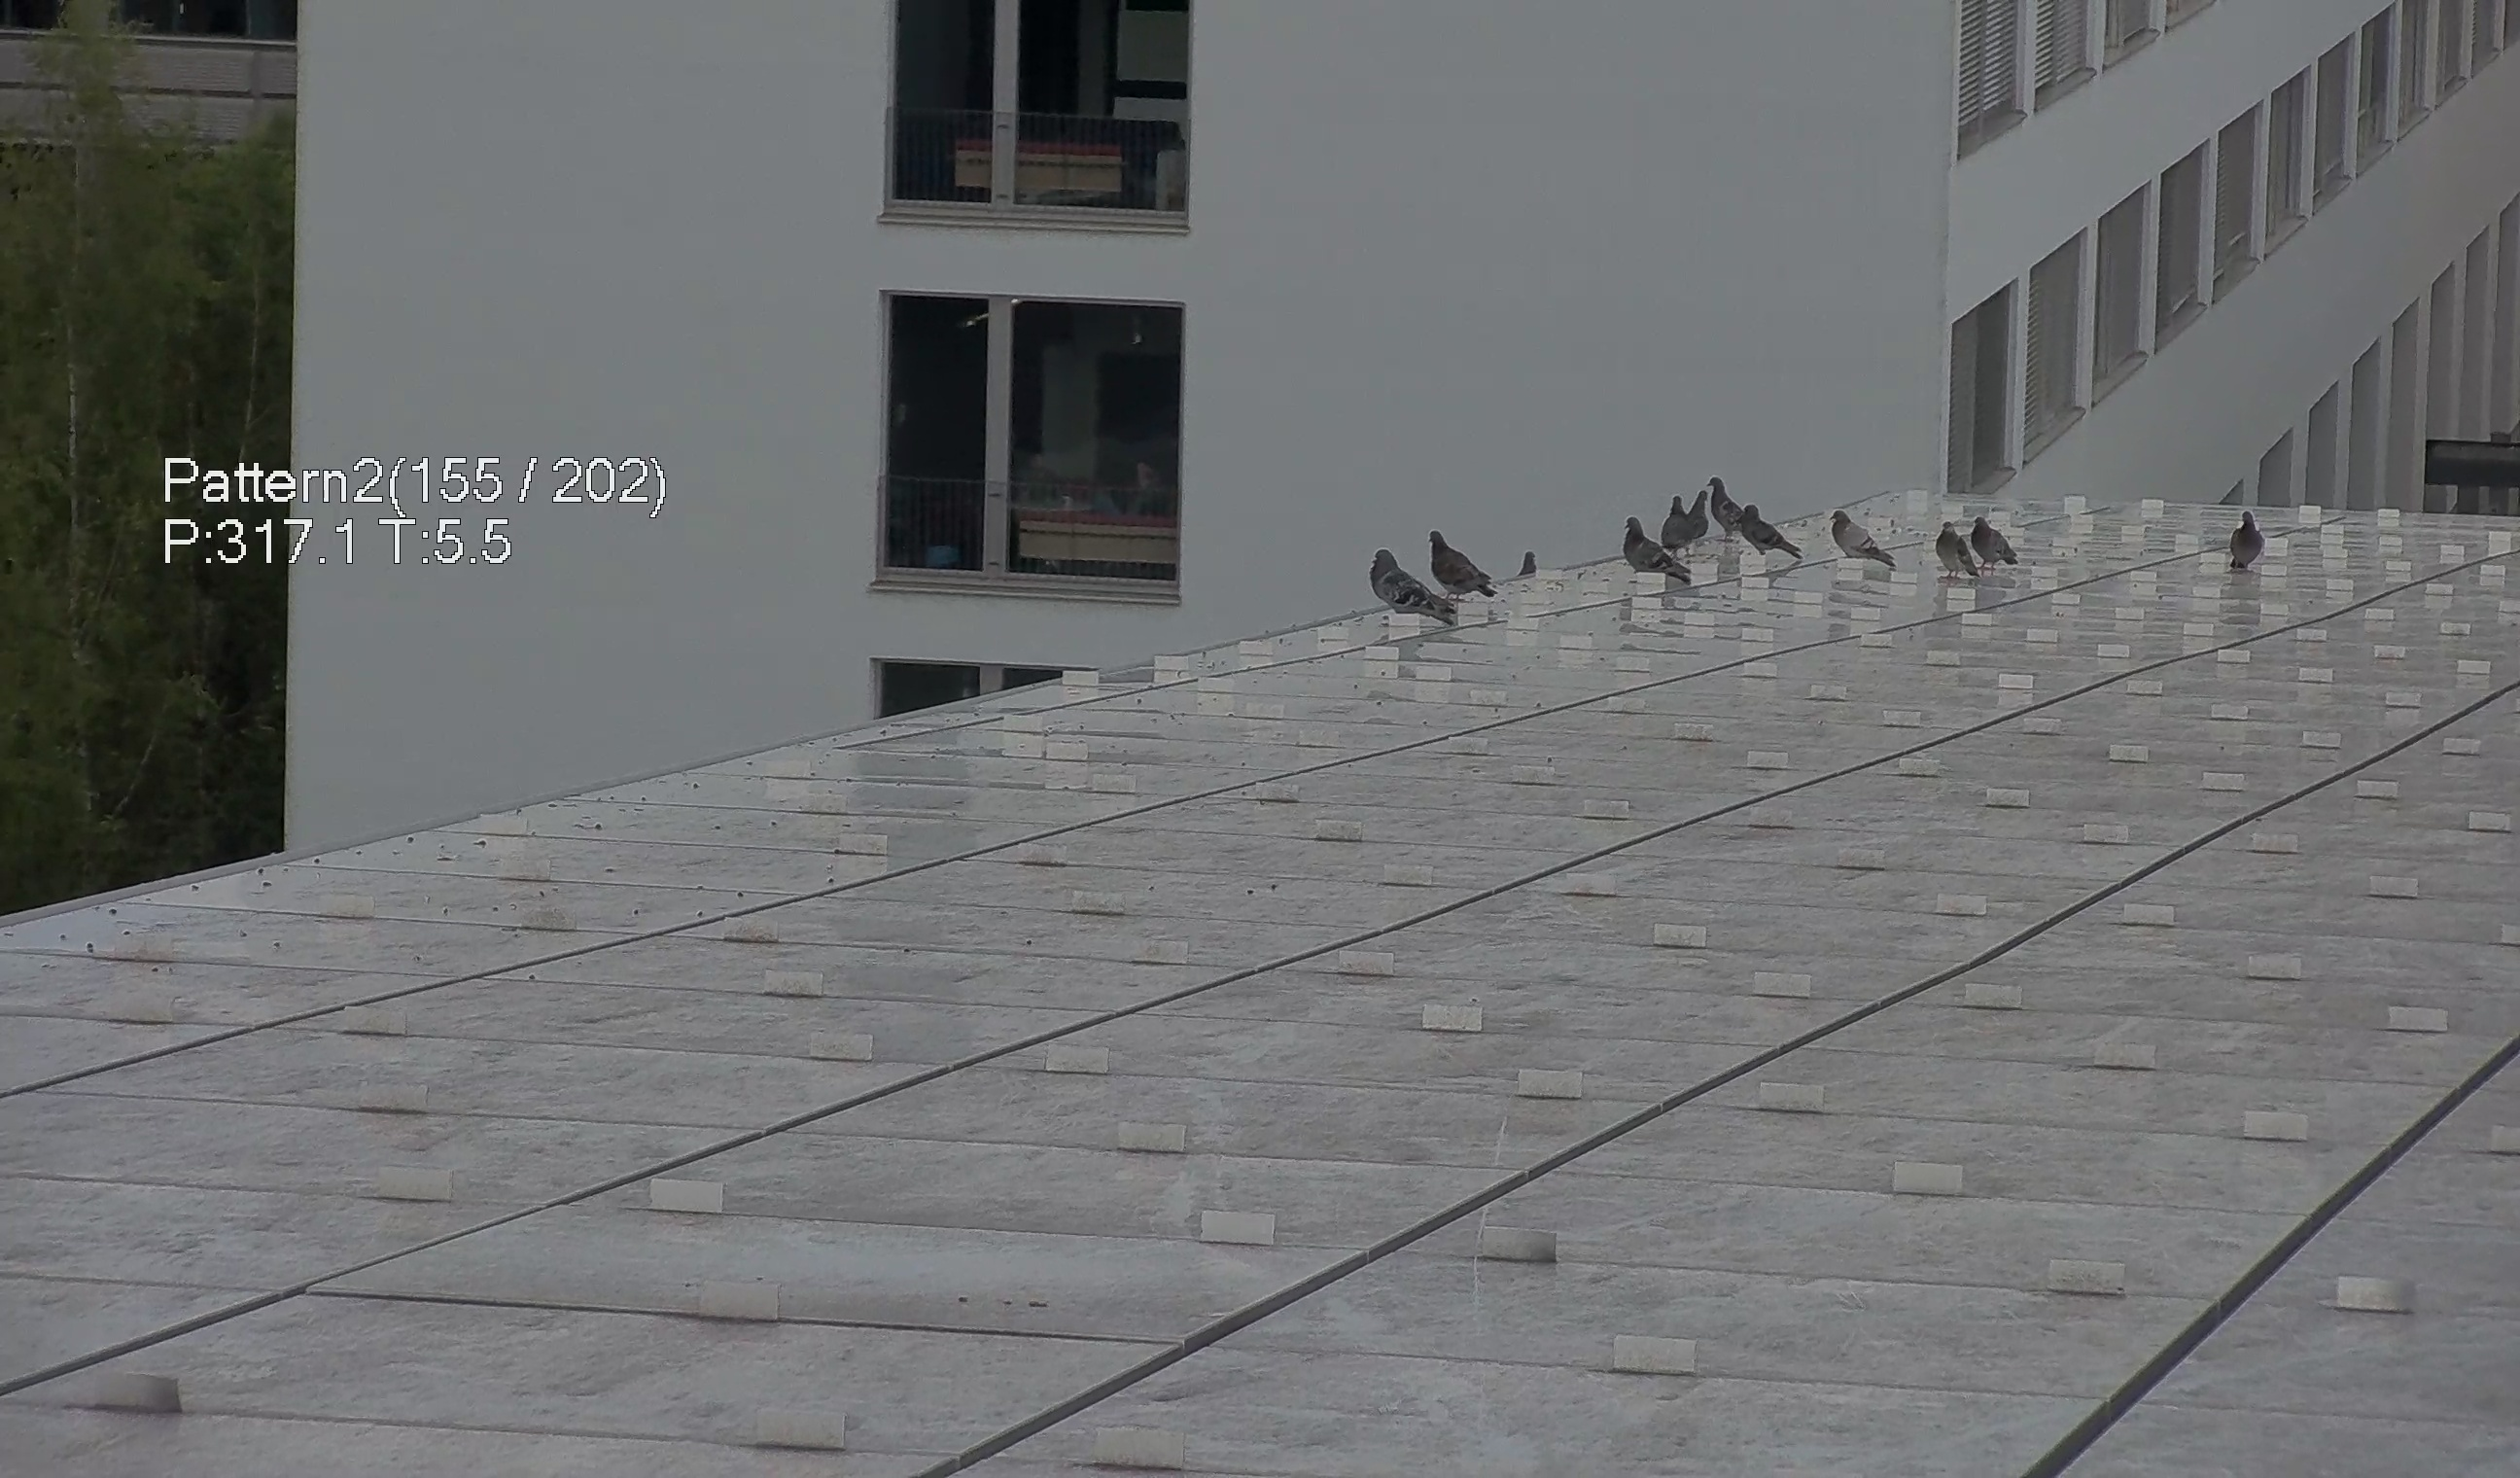Pigeon: (1356, 545, 1460, 637), (1613, 521, 1708, 589), (1428, 523, 1500, 605), (2214, 503, 2274, 577), (1929, 519, 1991, 589), (1743, 500, 1808, 565), (1653, 484, 1709, 549), (1832, 514, 1901, 567), (1702, 466, 1752, 538), (1964, 514, 2021, 570), (1516, 544, 1555, 586)
